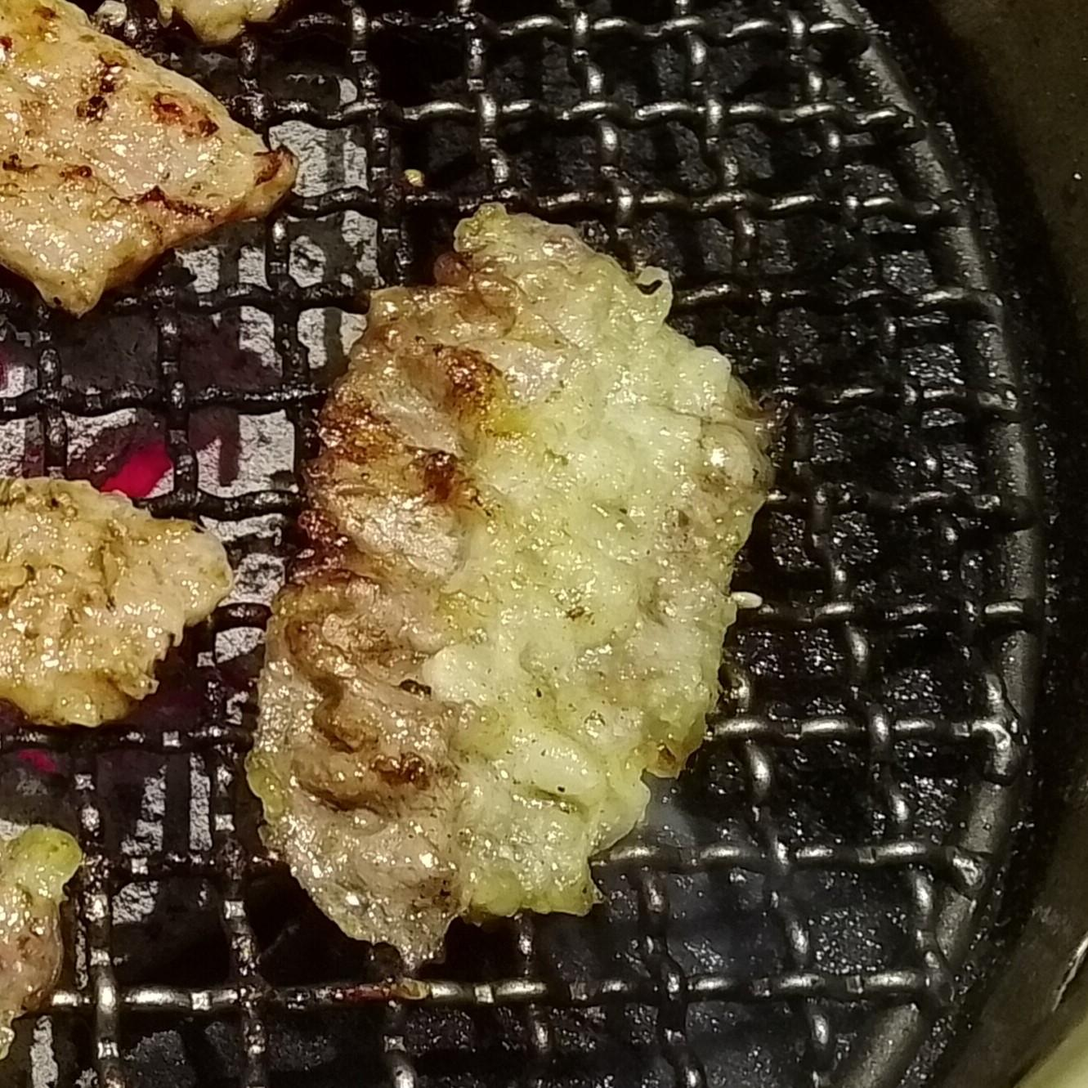Well-Cooked: (240, 206, 777, 972), (0, 0, 294, 320), (0, 477, 231, 734)
